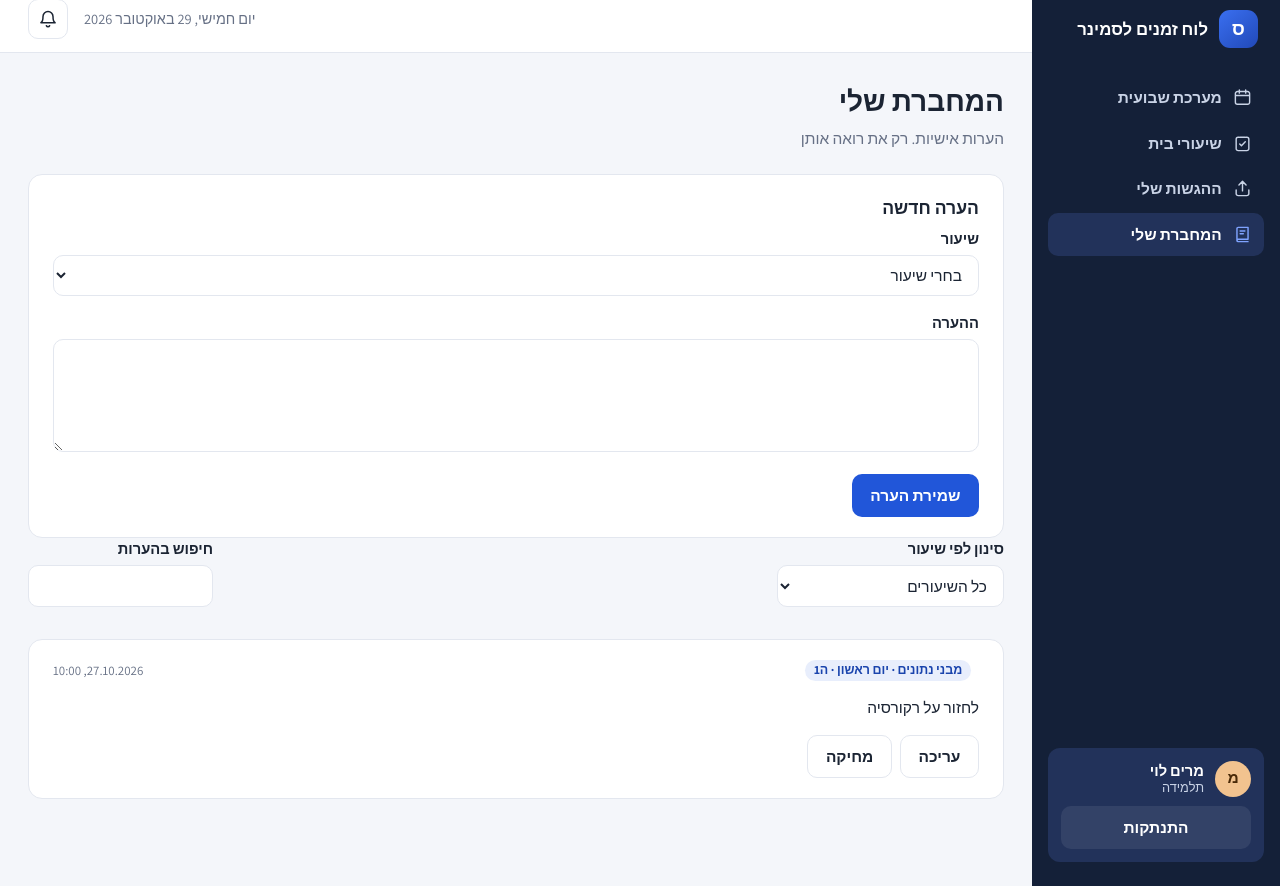
מחברת אישית › עריכה עם טקסט ריק נדחית, וביטול סוגר את העריכה
Expected: the text "לחזור על רקורסיה" is shown, [867, 697, 979, 717]
Click the button "עריכה".
click(939, 756)  # box [900, 735, 979, 778]
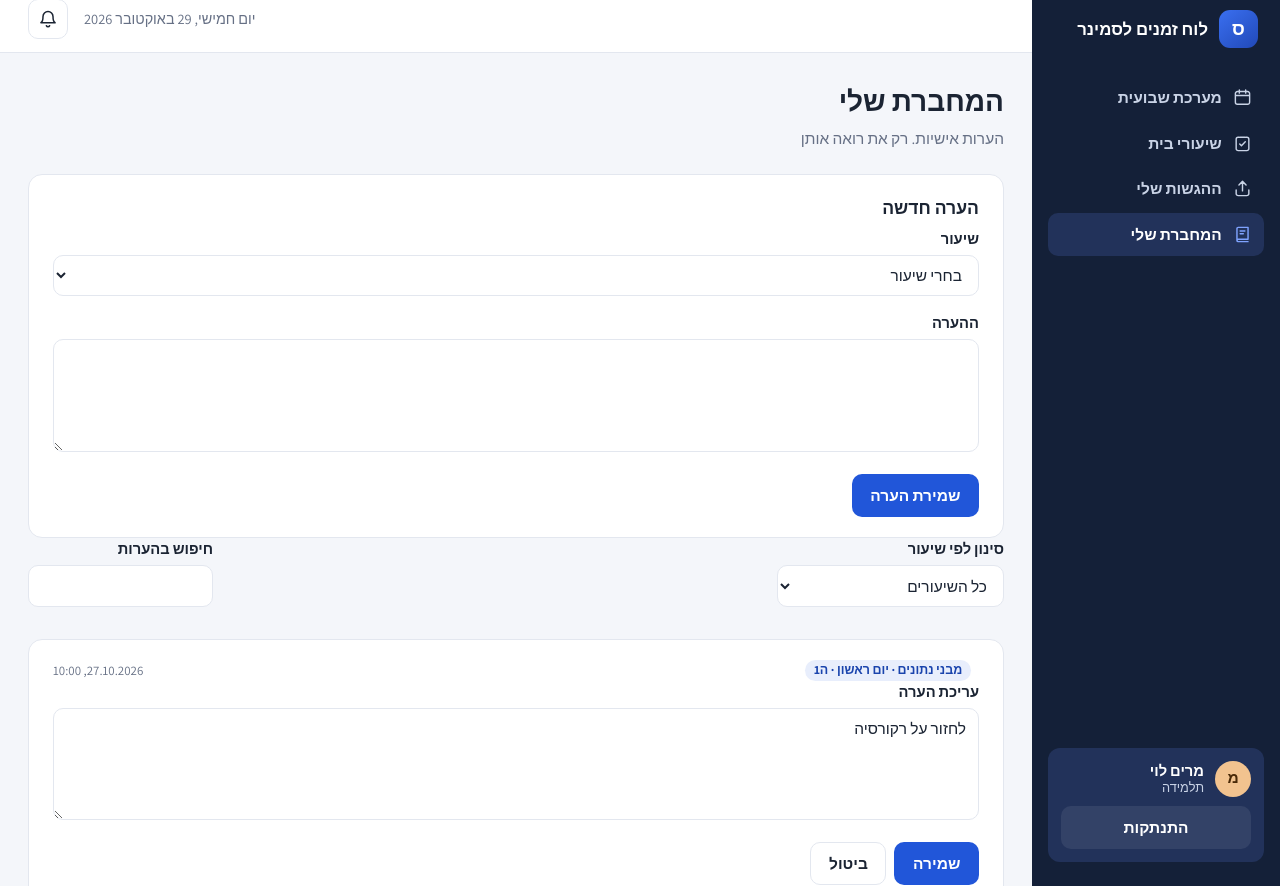
Clear the text box labelled "עריכת הערה" at (516, 764), box [53, 708, 979, 820]
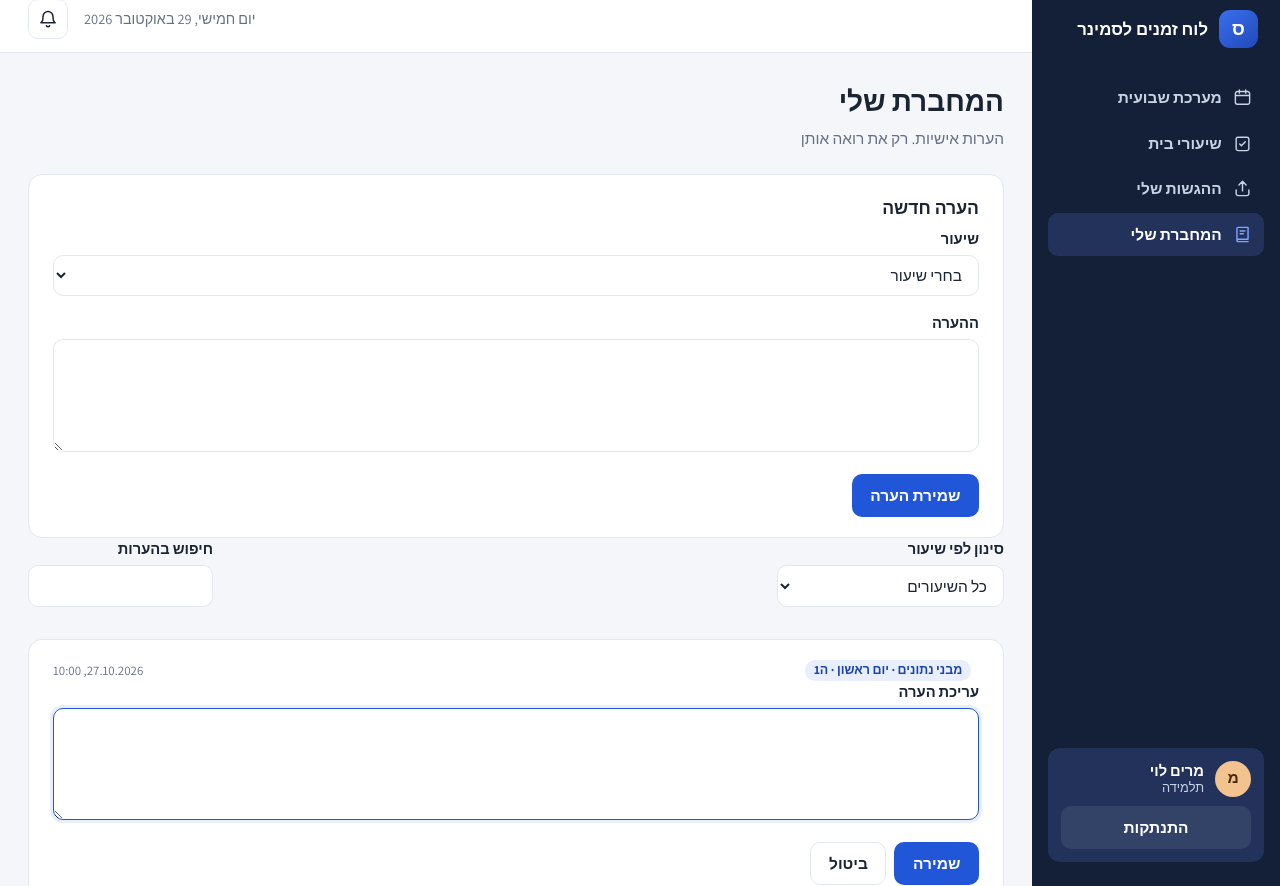
Click the button "שמירה".
click(937, 864)  # box [894, 842, 979, 885]
(page scrolled)
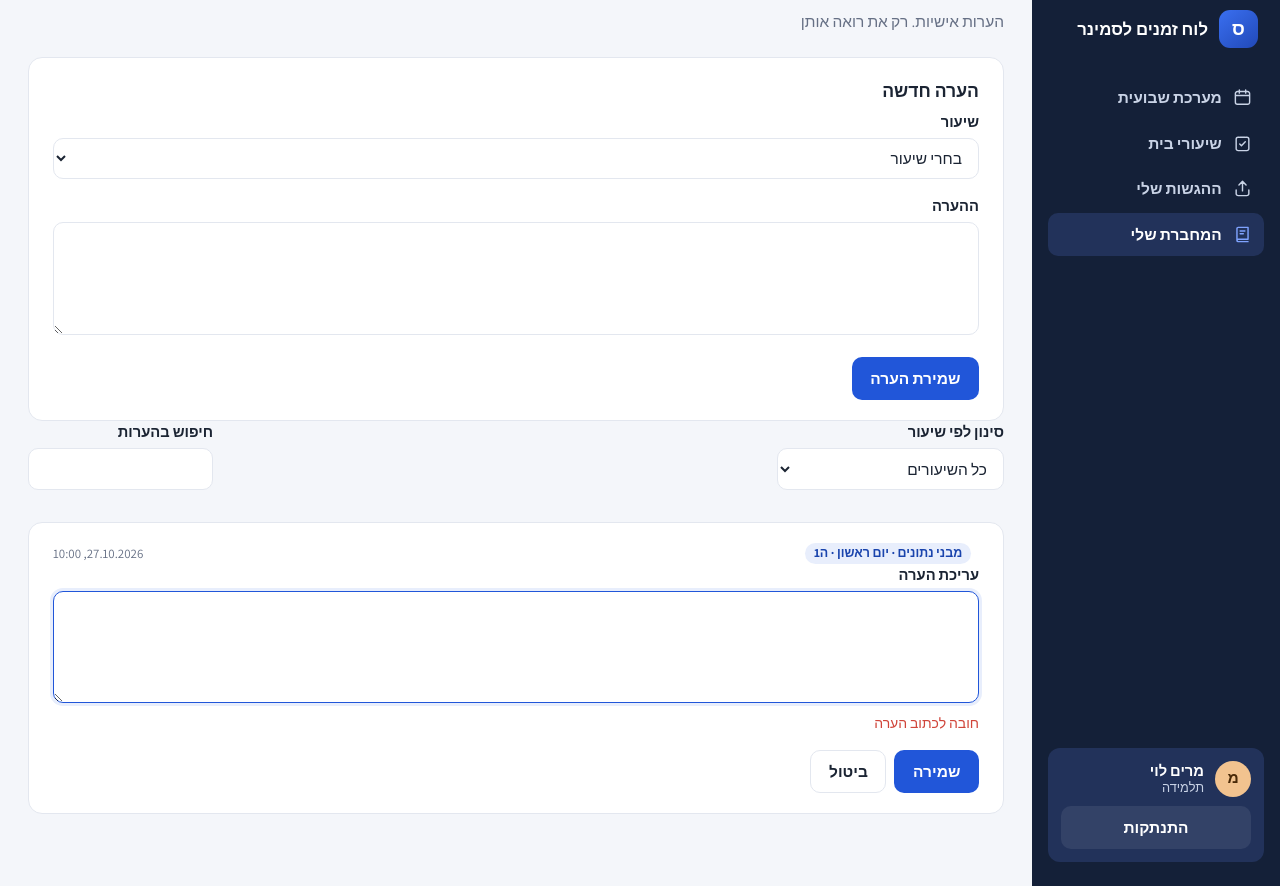
Result: the text "חובה לכתוב הערה" is shown at [874, 714, 979, 732]
Click the button "ביטול".
click(848, 772)  # box [810, 750, 886, 793]
(page scrolled)
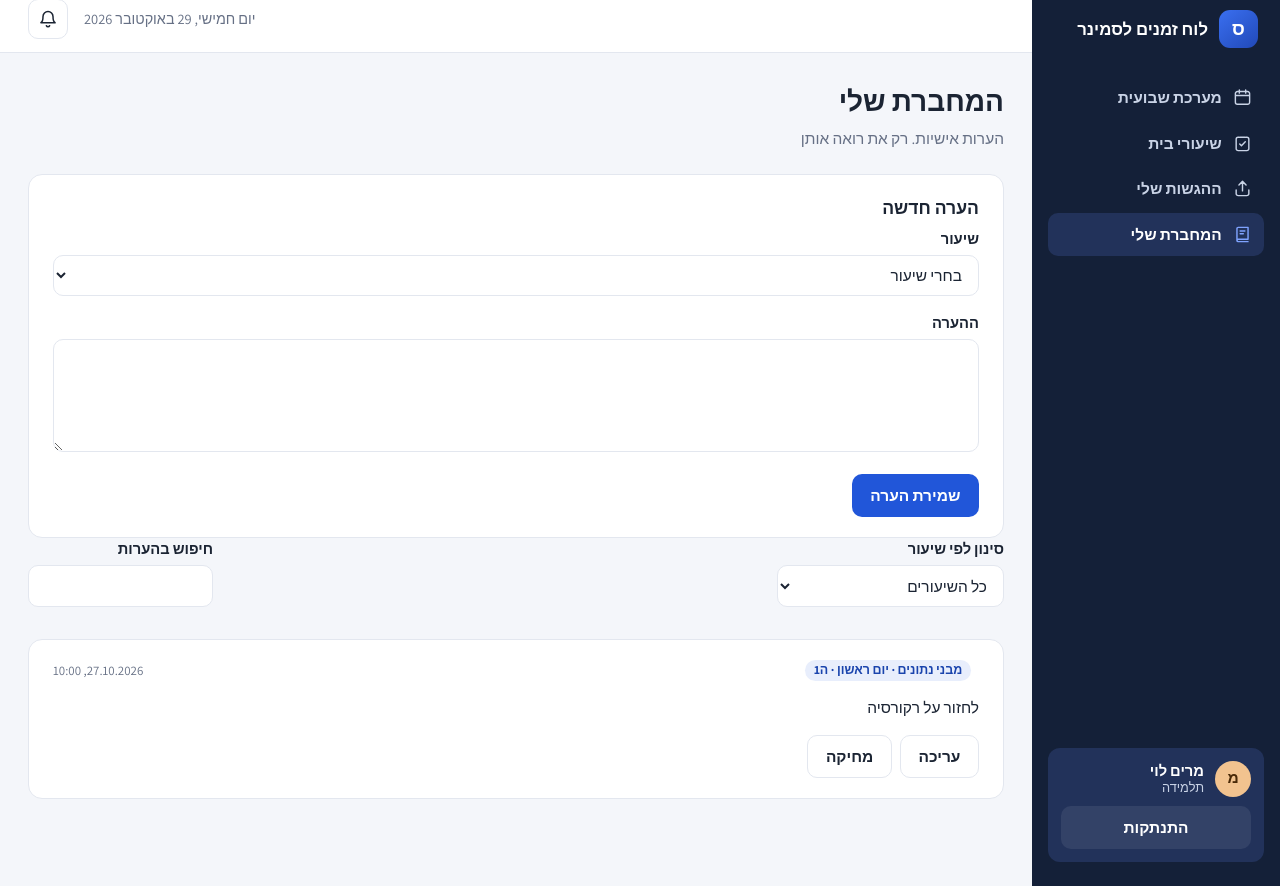
Result: the label labelled "עריכת הערה" is gone
Result: the text "לחזור על רקורסיה" is shown at [867, 697, 979, 717]
